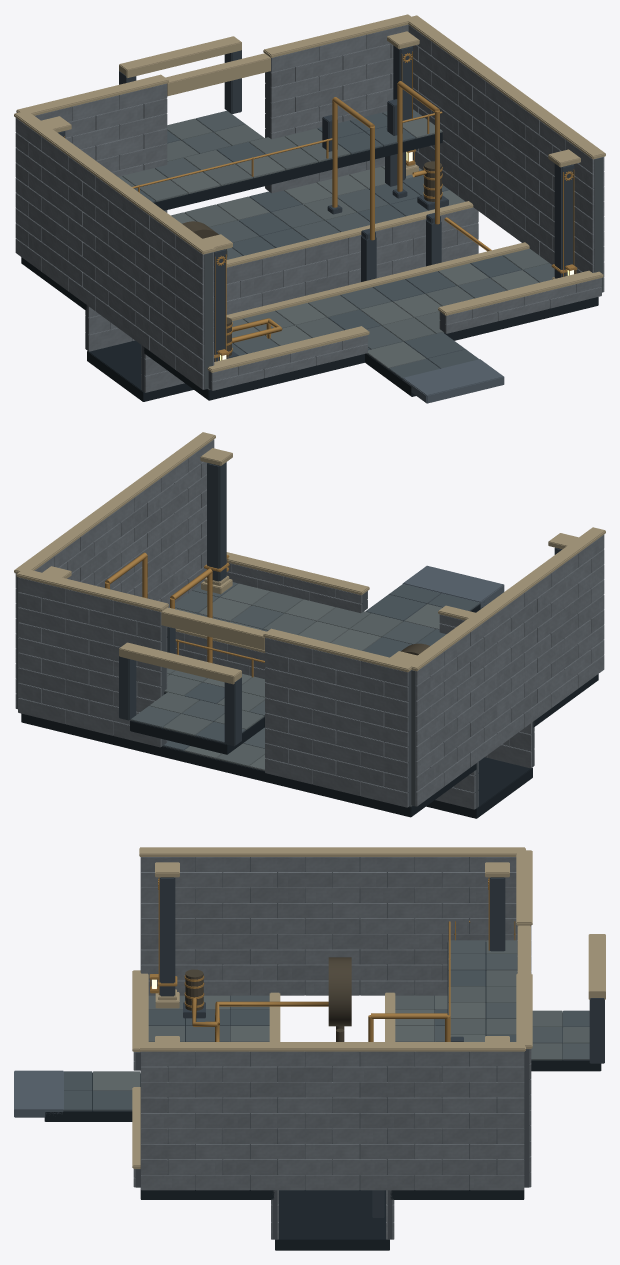
File: steam-static-v03.glb
3 views of the same model, one above another, from view 1: azimuth 30°, elevation 25°; view 2: azimuth 150°, elevation 25°; view 3: azimuth 270°, elevation 25° (orthographic). The views are drawn at different scales.
Parts seen in each view (by area): view 1: steam-static-v03 Fire coursed basalt, steam-static-v03 Ash stone • warm trim, steam-static-v03 Floor stone 1, steam-static-v03 Floor stone 3, steam-static-v03 Recesses and grout, steam-static-v03 Floor stone 2, steam-static-v03 Basalt • charcoal, steam-static-v03 Floor stone 0, steam-static-v03 Bronze • forged warm, steam-static-v03 Fire recessed mortar, steam-static-v03 Basalt • blue grey bevels, steam-static-v03 Bronze • aged recess; view 2: steam-static-v03 Fire coursed basalt, steam-static-v03 Ash stone • warm trim, steam-static-v03 Recesses and grout, steam-static-v03 Floor stone 1, steam-static-v03 Basalt • charcoal, steam-static-v03 Floor stone 2, steam-static-v03 Floor stone 3, steam-static-v03 Floor stone 0, steam-static-v03 Basalt • blue grey bevels, steam-static-v03 Fire recessed mortar, steam-static-v03 Bronze • forged warm; view 3: steam-static-v03 Fire coursed basalt, steam-static-v03 Ash stone • warm trim, steam-static-v03 Recesses and grout, steam-static-v03 Floor stone 1, steam-static-v03 Floor stone 3, steam-static-v03 Basalt • charcoal, steam-static-v03 Floor stone 0, steam-static-v03 Floor stone 2, steam-static-v03 Fire recessed mortar, steam-static-v03 Bronze • forged warm, steam-static-v03 Bronze • aged recess, steam-static-v03 Basalt • blue grey bevels.
Boxes of the visible parts, x1,y1,x2,y2 form: steam-static-v03 Fire coursed basalt: [15, 24, 604, 392]; steam-static-v03 Ash stone • warm trim: [14, 14, 605, 372]; steam-static-v03 Floor stone 1: [118, 118, 549, 389]; steam-static-v03 Floor stone 3: [134, 112, 521, 379]; steam-static-v03 Recesses and grout: [21, 132, 598, 401]; steam-static-v03 Floor stone 2: [170, 117, 538, 368]; steam-static-v03 Basalt • charcoal: [58, 45, 574, 361]; steam-static-v03 Floor stone 0: [155, 109, 554, 353]; steam-static-v03 Bronze • forged warm: [64, 51, 577, 361]; steam-static-v03 Fire recessed mortar: [85, 49, 603, 391]; steam-static-v03 Basalt • blue grey bevels: [402, 359, 504, 403]; steam-static-v03 Bronze • aged recess: [182, 161, 441, 356]; steam-static-v03 Fire coursed basalt: [15, 439, 604, 809]; steam-static-v03 Ash stone • warm trim: [14, 432, 605, 684]; steam-static-v03 Recesses and grout: [21, 604, 598, 818]; steam-static-v03 Floor stone 1: [149, 591, 402, 767]; steam-static-v03 Basalt • charcoal: [119, 462, 561, 746]; steam-static-v03 Floor stone 2: [184, 583, 442, 806]; steam-static-v03 Floor stone 3: [162, 584, 480, 751]; steam-static-v03 Floor stone 0: [130, 582, 435, 748]; steam-static-v03 Basalt • blue grey bevels: [402, 565, 504, 608]; steam-static-v03 Fire recessed mortar: [17, 572, 534, 808]; steam-static-v03 Bronze • forged warm: [105, 552, 264, 677]; steam-static-v03 Fire coursed basalt: [133, 857, 531, 1239]; steam-static-v03 Ash stone • warm trim: [132, 847, 605, 1168]; steam-static-v03 Recesses and grout: [44, 942, 601, 1250]; steam-static-v03 Floor stone 1: [148, 940, 589, 1060]; steam-static-v03 Floor stone 3: [63, 970, 589, 1111]; steam-static-v03 Basalt • charcoal: [159, 877, 604, 1217]; steam-static-v03 Floor stone 0: [185, 940, 589, 1060]; steam-static-v03 Floor stone 2: [93, 995, 485, 1090]; steam-static-v03 Fire recessed mortar: [135, 857, 529, 1239]; steam-static-v03 Bronze • forged warm: [149, 877, 515, 1041]; steam-static-v03 Bronze • aged recess: [185, 957, 351, 1041]; steam-static-v03 Basalt • blue grey bevels: [14, 1070, 63, 1117].
Size of the model in its own units: 24.85 by 11.82 by 30.85.
Materials: 13 (1 with a texture image).
